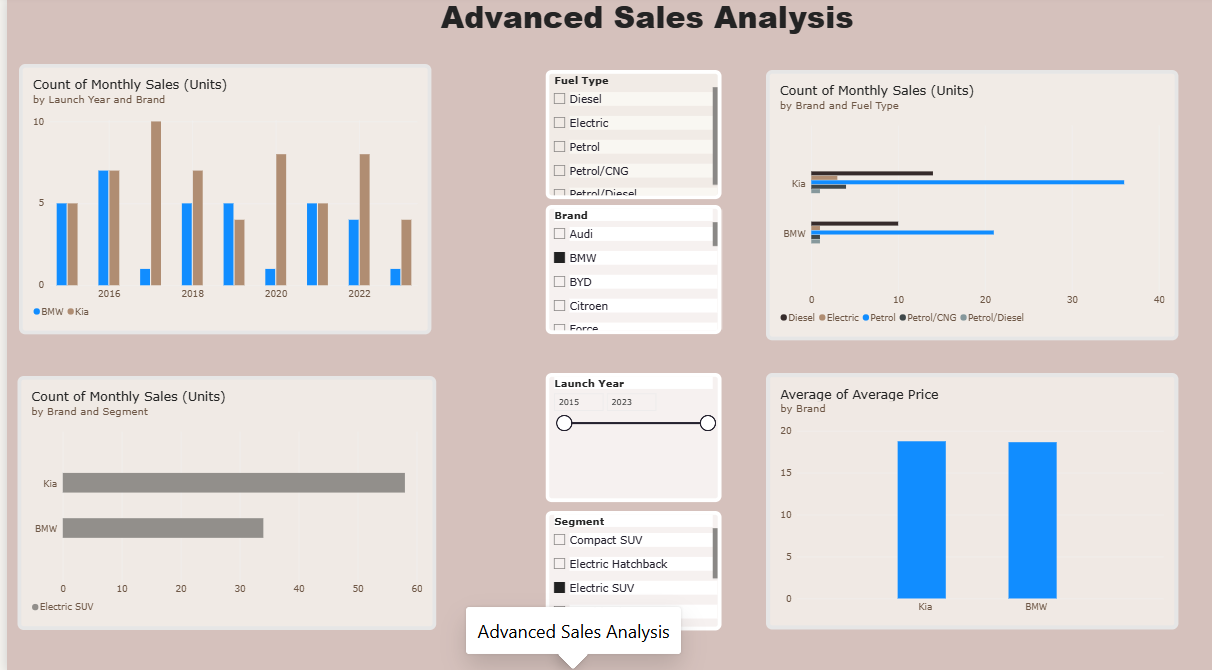

The dashboard page shown, as its layout file describes it:
{"tool":"powerbi","page":{"name":"Advanced Sales Analysis","canvas":[1920,1080],"ordinal":2},"visuals":[{"type":"slicer","fields":{"Values":["Sheet1.Fuel Type"]},"box":[856,120,280,205],"z":0},{"type":"slicer","fields":{"Values":["Sheet1.Segment"]},"box":[856,820,280,190],"z":1000},{"type":"slicer","fields":{"Values":["Sheet1.Launch Year"]},"box":[856,602,280,205],"z":2000},{"type":"slicer","fields":{"Values":["Sheet1.Brand"]},"box":[856,334,280,205],"z":3000},{"type":"clusteredColumnChart","fields":{"Category":["Sheet1.Launch Year"],"Series":["Sheet1.Brand"],"Y":["CountNonNull(Sheet1.Monthly Sales (Units))"]},"box":[20,110,656,430],"z":3001},{"type":"clusteredBarChart","fields":{"Category":["Sheet1.Brand"],"Series":["Sheet1.Fuel Type"],"Y":["CountNonNull(Sheet1.Monthly Sales (Units))"]},"box":[1208,120,656,430],"z":3002},{"type":"clusteredBarChart","fields":{"Category":["Sheet1.Brand"],"Series":["Sheet1.Segment"],"Y":["CountNonNull(Sheet1.Monthly Sales (Units))"]},"box":[16,606,666,404],"z":3003},{"type":"clusteredColumnChart","fields":{"Category":["Sheet1.Brand"],"Y":["Avg(Sheet1.Average Price)"]},"box":[1208,602,656,408],"z":3004},{"type":"textbox","box":[368,0,1302,110],"z":3005}]}

Visuals, with their boxes in screenshot pixels (x1, y1, x2, y2), scaled from the page's 1920x1080 canvas onto the 1212x670 screenshot:
slicer - Sheet1.Fuel Type: detection(540, 74, 717, 202)
slicer - Sheet1.Segment: detection(540, 509, 717, 627)
slicer - Sheet1.Launch Year: detection(540, 373, 717, 501)
slicer - Sheet1.Brand: detection(540, 207, 717, 334)
clusteredColumnChart - Sheet1.Launch Year x Sheet1.Brand: detection(13, 68, 427, 335)
clusteredBarChart - Sheet1.Brand x Sheet1.Fuel Type: detection(763, 74, 1177, 341)
clusteredBarChart - Sheet1.Brand x Sheet1.Segment: detection(10, 376, 431, 627)
clusteredColumnChart - Sheet1.Brand x Avg(Sheet1.Average Price): detection(763, 373, 1177, 627)
textbox: detection(232, 0, 1054, 68)
